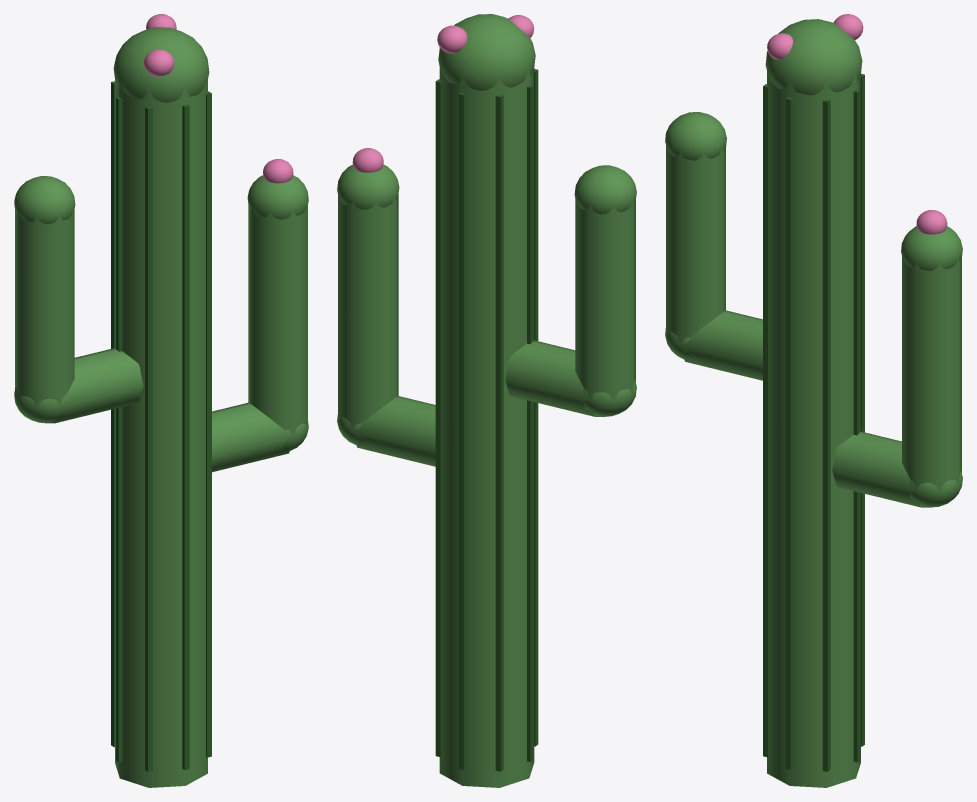
File: arbre_desert_3.glb
3 renders of one model, left to right at view 1: azimuth 30°, elevation 25°; view 2: azimuth 150°, elevation 25°; view 3: azimuth 330°, elevation 25°, orthographic.
Visible parts, largest first — view 1: fut.002, cactus_cactus.004, cactus_feuille_sombre.002, cactus_rose.004; view 2: fut.002, cactus_cactus.004, cactus_feuille_sombre.002, cactus_rose.004; view 3: fut.002, cactus_cactus.004, cactus_feuille_sombre.002, cactus_rose.004.
Boxes of the visible parts, bbox=[...] form: fut.002: bbox=[115, 75, 207, 787]; cactus_cactus.004: bbox=[14, 27, 308, 472]; cactus_feuille_sombre.002: bbox=[111, 81, 211, 771]; cactus_rose.004: bbox=[144, 14, 293, 183]; fut.002: bbox=[439, 63, 534, 787]; cactus_cactus.004: bbox=[337, 14, 636, 466]; cactus_feuille_sombre.002: bbox=[435, 69, 538, 771]; cactus_rose.004: bbox=[352, 15, 534, 172]; fut.002: bbox=[767, 68, 860, 787]; cactus_cactus.004: bbox=[665, 19, 962, 507]; cactus_feuille_sombre.002: bbox=[763, 73, 864, 771]; cactus_rose.004: bbox=[767, 14, 947, 234].
Size of the model in its own units: 1.72 by 4.22 by 0.53.
